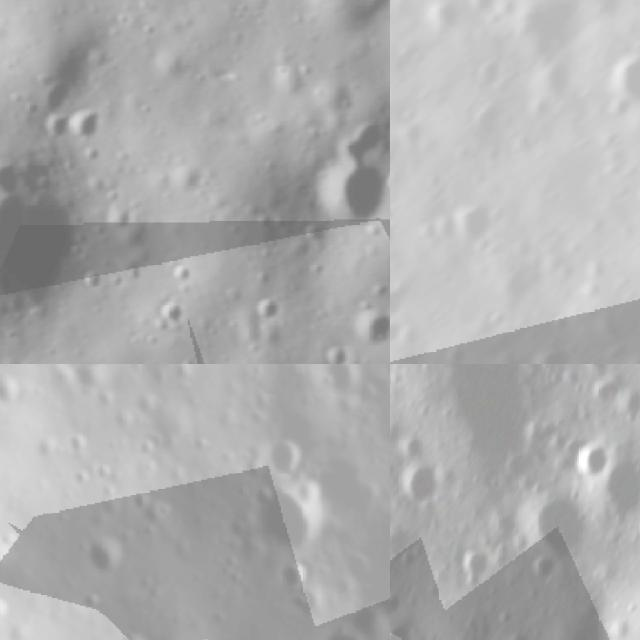crater: (0, 160, 84, 320), (490, 0, 609, 77), (243, 477, 334, 558), (518, 484, 596, 564), (307, 165, 390, 236), (439, 182, 511, 256), (480, 242, 548, 312), (591, 27, 640, 121), (591, 445, 640, 536), (326, 114, 390, 165), (458, 85, 515, 142), (261, 423, 312, 486), (398, 457, 453, 515), (462, 45, 518, 100), (80, 528, 130, 588), (414, 0, 472, 47), (34, 65, 86, 114), (450, 543, 499, 595), (519, 546, 566, 594), (390, 264, 424, 329), (317, 364, 366, 408), (572, 436, 618, 480), (522, 334, 585, 364), (350, 304, 390, 349), (151, 293, 196, 332), (68, 101, 108, 144), (167, 158, 210, 196), (96, 198, 136, 238), (479, 298, 518, 338), (390, 204, 410, 273), (252, 290, 288, 327), (605, 87, 640, 125), (610, 384, 640, 428), (397, 432, 432, 468), (40, 113, 76, 147), (403, 39, 437, 75), (390, 141, 410, 202), (167, 256, 201, 289), (76, 262, 111, 292), (390, 615, 429, 640), (390, 585, 414, 624), (315, 341, 354, 364), (318, 626, 377, 640), (114, 626, 156, 640)
